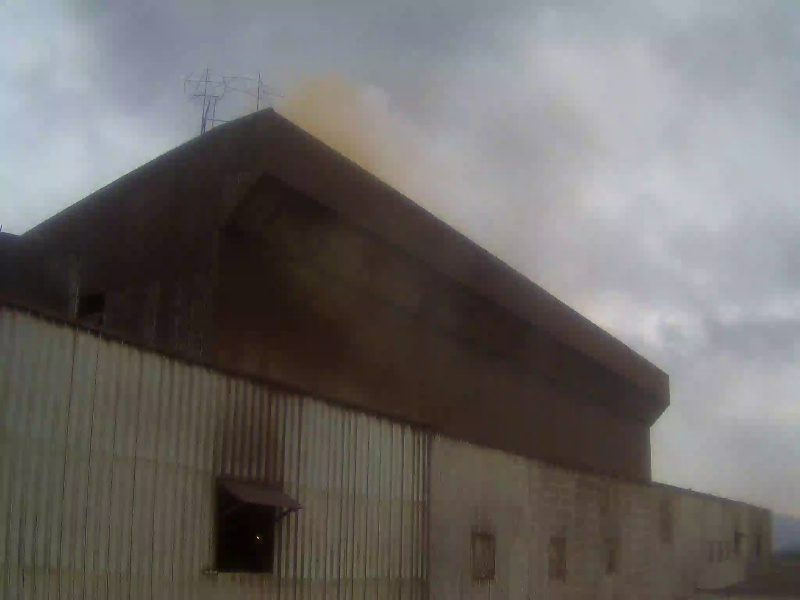bom: (625, 197, 800, 378), (38, 48, 233, 157)
ruim: (297, 66, 447, 292)
